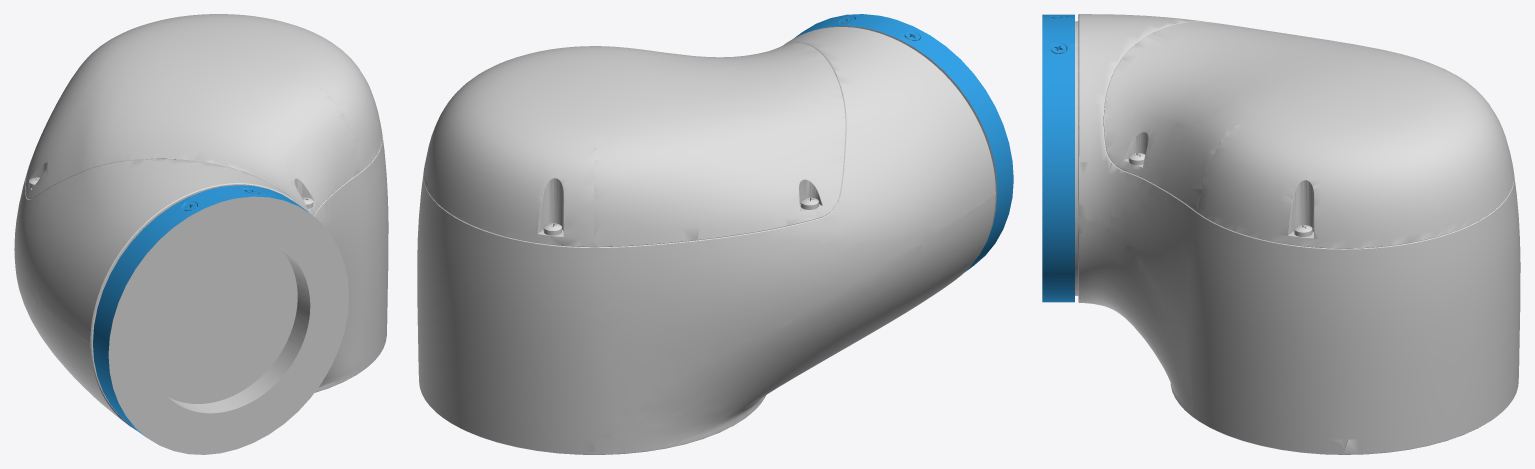
3 views of the same model, side by side, from view 1: azimuth 30°, elevation 25°; view 2: azimuth 150°, elevation 25°; view 3: azimuth 270°, elevation 25° (orthographic). The views are drawn at different scales.
Parts seen in each view (by area): view 1: /Link3/Link3-mesh/0, /Link3/Link3-mesh/1; view 2: /Link3/Link3-mesh/0, /Link3/Link3-mesh/1; view 3: /Link3/Link3-mesh/0, /Link3/Link3-mesh/1.
Boxes of the visible parts, box(x1,y1,x2,y2) form: /Link3/Link3-mesh/0: box(14, 14, 388, 454); /Link3/Link3-mesh/1: box(93, 185, 308, 436); /Link3/Link3-mesh/0: box(417, 22, 997, 454); /Link3/Link3-mesh/1: box(793, 14, 1013, 271); /Link3/Link3-mesh/0: box(1053, 14, 1520, 454); /Link3/Link3-mesh/1: box(1042, 14, 1074, 302).
Size of the model in its own units: 0.1487 by 0.1005 by 0.1472.
